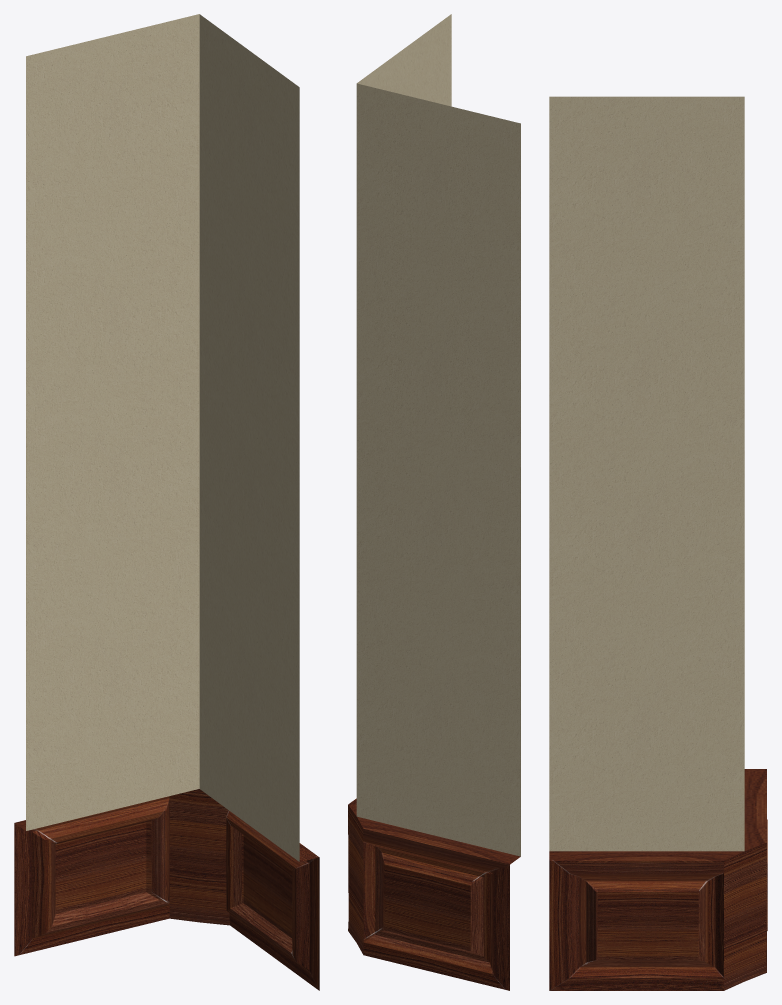
Rendered from lib_set_01_wall_03_LO.fbx.
3 renders of one model, left to right at view 1: azimuth 30°, elevation 25°; view 2: azimuth 150°, elevation 25°; view 3: azimuth 270°, elevation 25°, orthographic. The views are drawn at different scales.
Visible parts, largest first — view 1: polySurface1; view 2: polySurface1; view 3: polySurface1.
Part boxes in pixels (x1,y1,x2,y2): polySurface1: [14, 14, 319, 990]; polySurface1: [348, 14, 520, 990]; polySurface1: [549, 96, 767, 990].
Size of the model in its own units: 2.23 by 10 by 2.23.
1 material, 1 textured.
